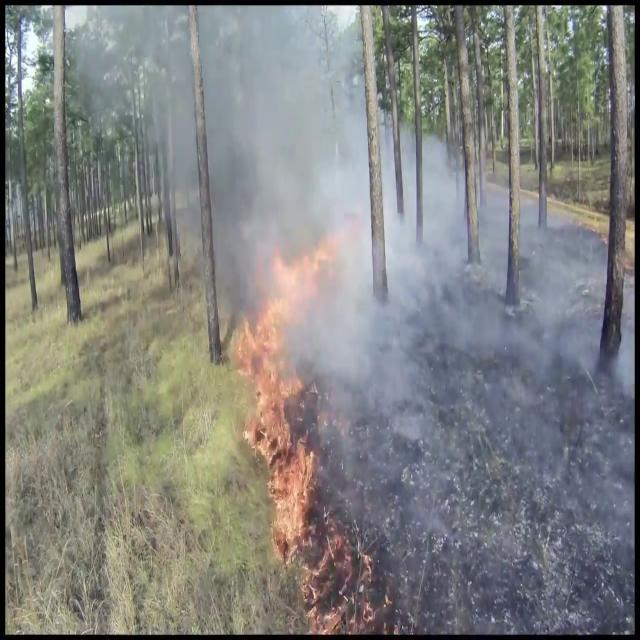Fire: (235, 260, 323, 578)
Smoke: (152, 0, 480, 333), (382, 119, 586, 402)
